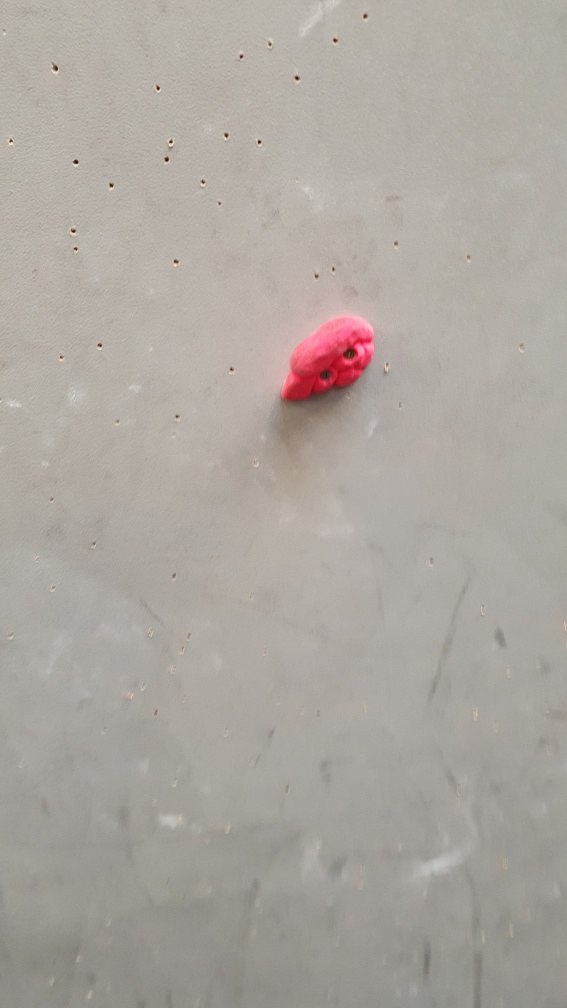Jug: (280, 311, 381, 406)
